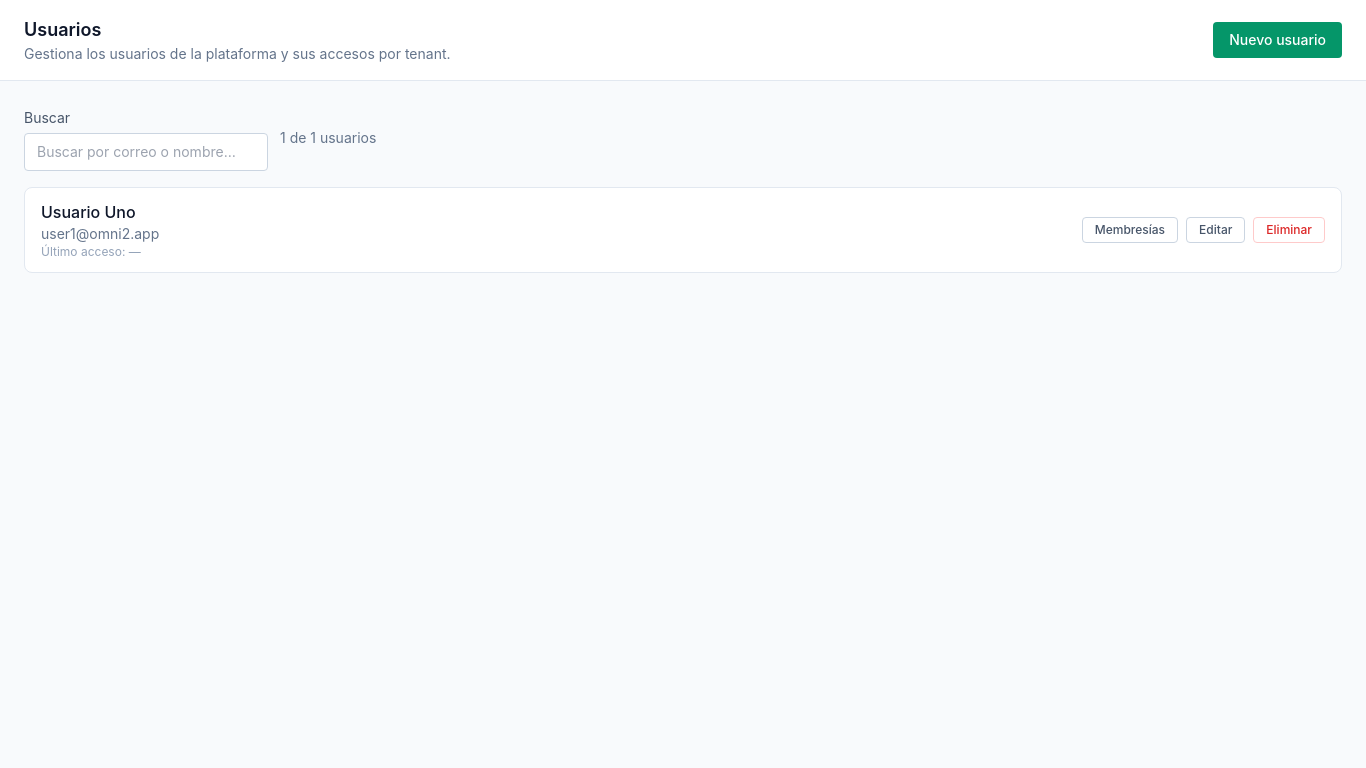
Test: UsersSection › gestiona las membresías de un usuario: agrega y quita acceso
Expected: the text "Usuario Uno" is shown, [41,200,136,224]
Click the button "Membresías" at (1130, 230), box [1082,217,1178,243]
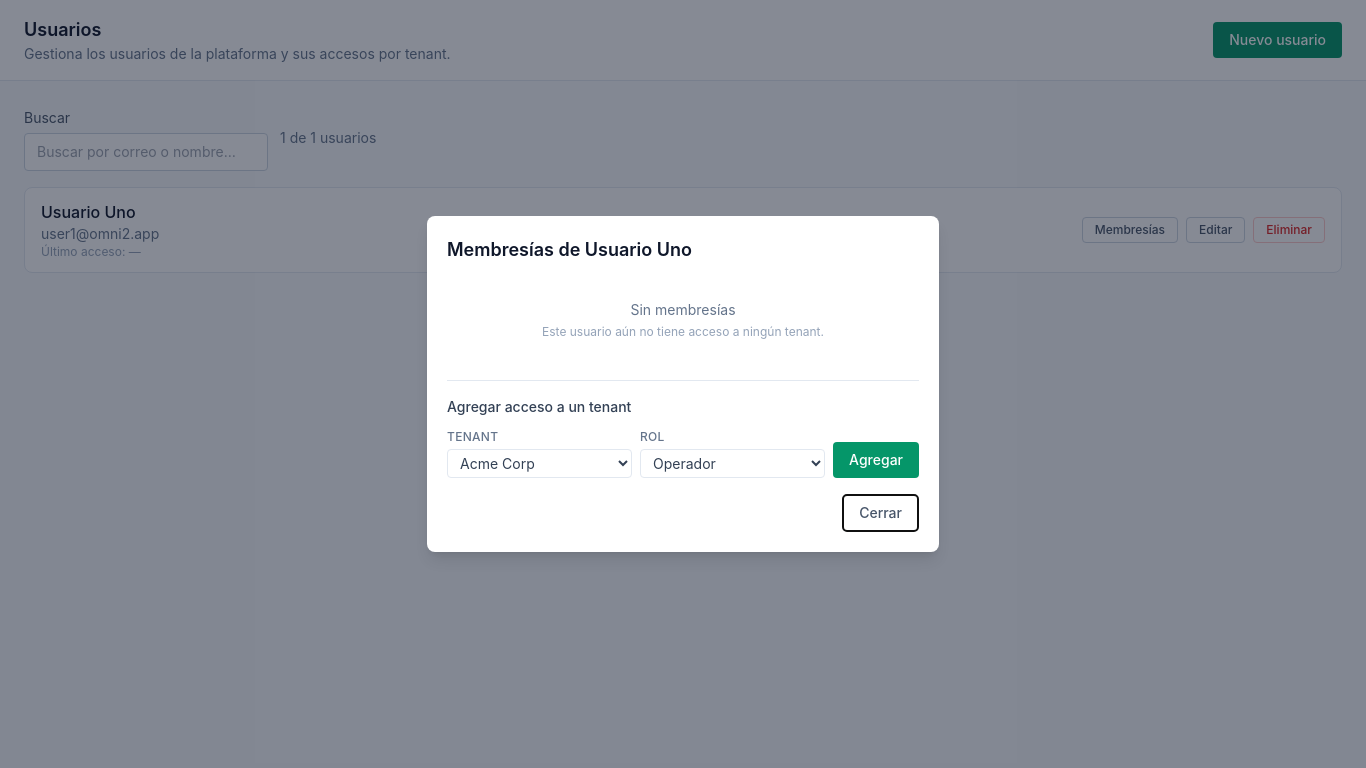
Expected: the heading "Membresías de Usuario Uno" is shown, [447,239,692,260]
Expected: the text "Sin membresías" is shown, [630,301,736,318]
Select "Acme Corp" in the dropdown labelled "Tenant" at (540, 464), box [447,449,632,478]
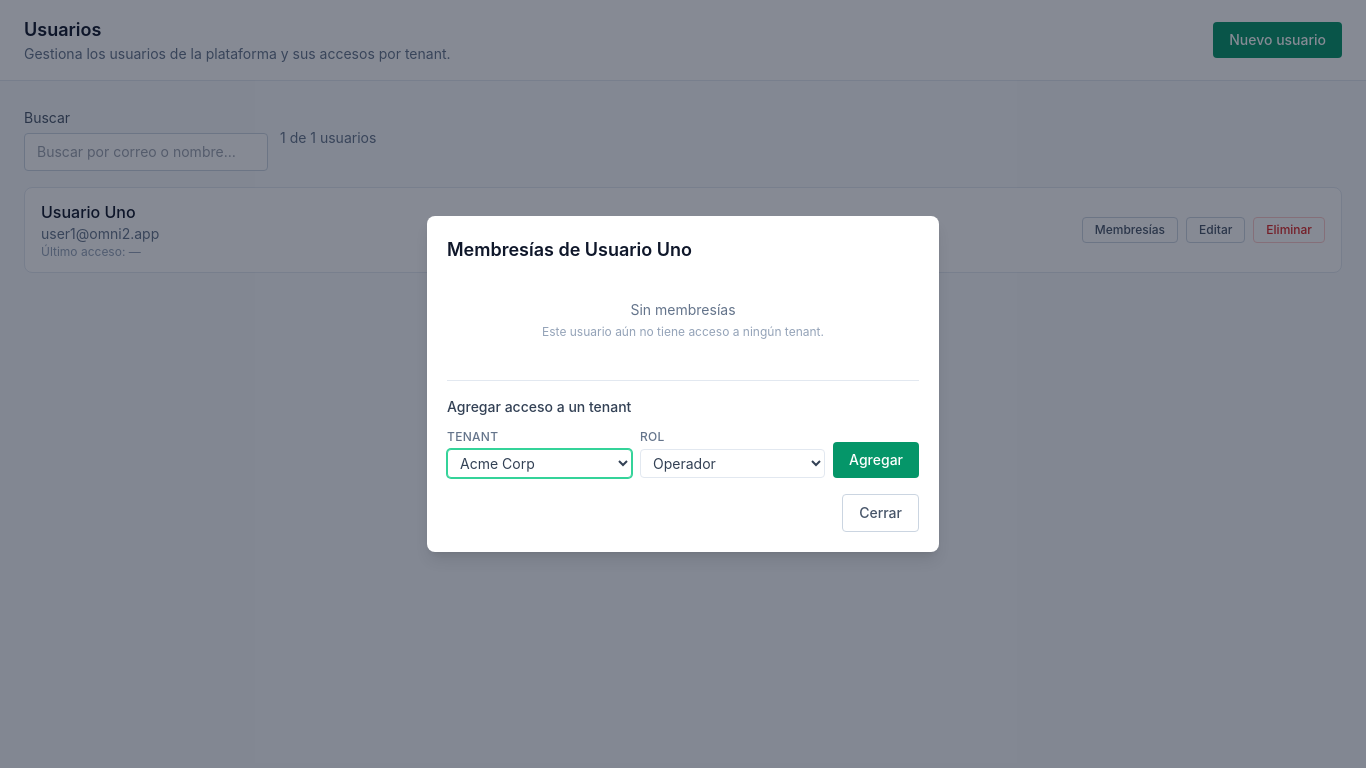
Select "Configurador" in the dropdown labelled "Rol" at (732, 464), box [640,449,825,478]
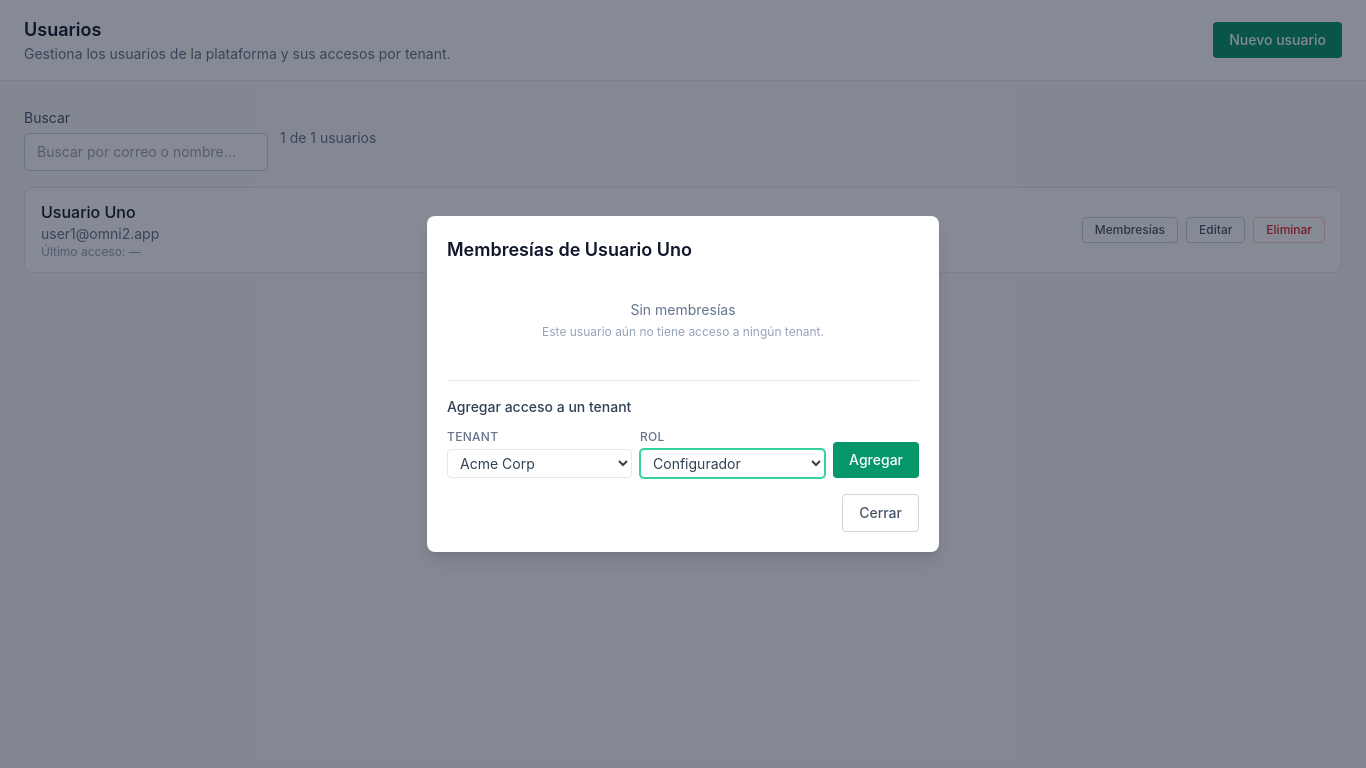
Click the button "Agregar" at (876, 460), box [833,442,919,478]
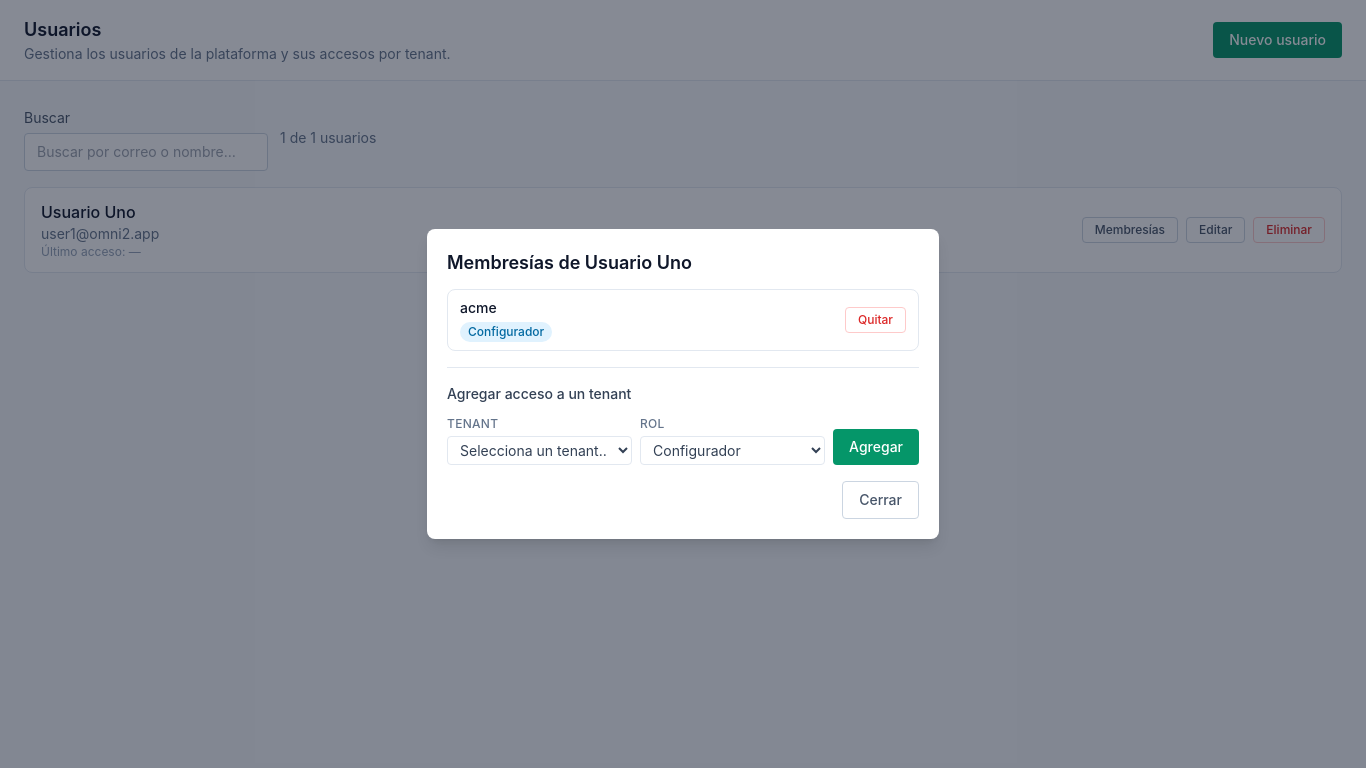
Expected: the text "acme" is shown, [460,299,497,316]
Expected: the text "Configurador" is shown, [460,322,552,342]
# Quitar la membresía tras confirmar.
Click the button "Quitar" at (875, 320), box [845,307,906,333]
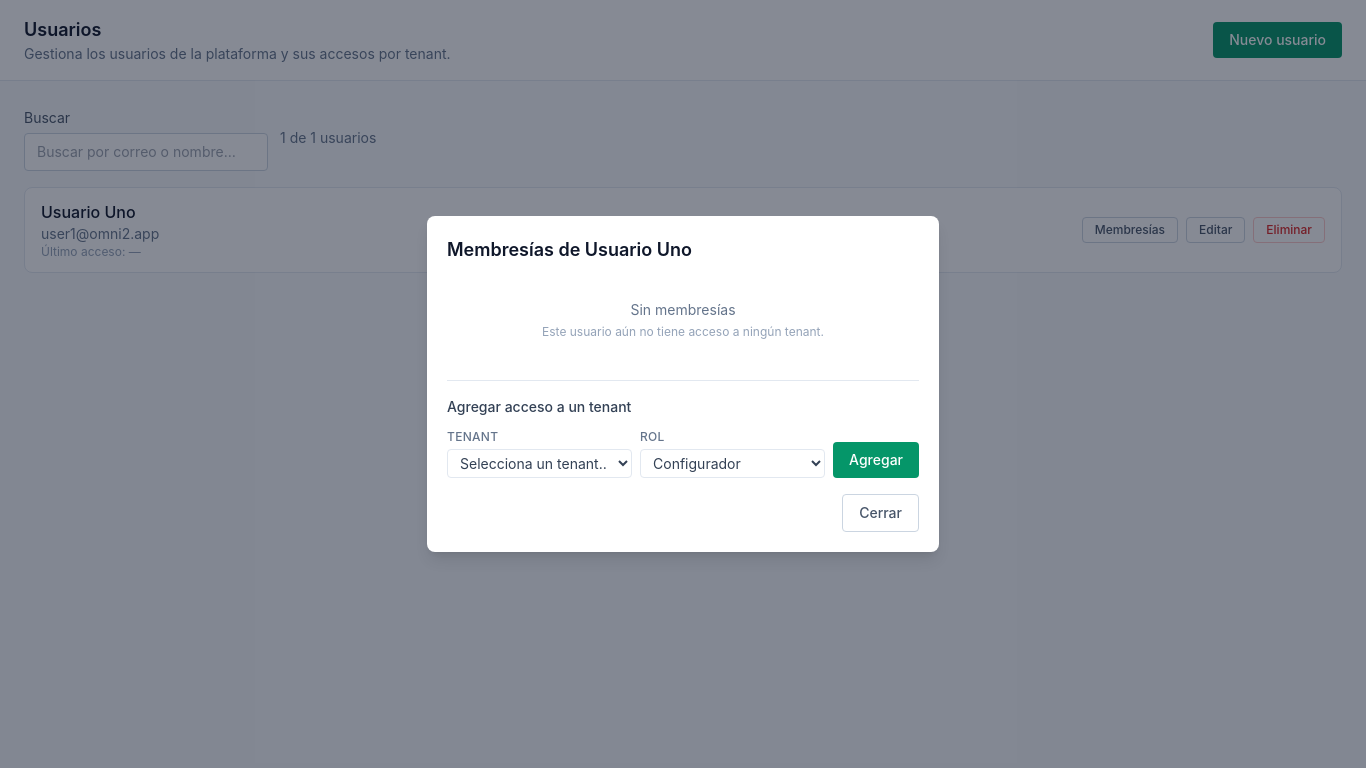
Expected: the text "Sin membresías" is shown, [630,301,736,318]
